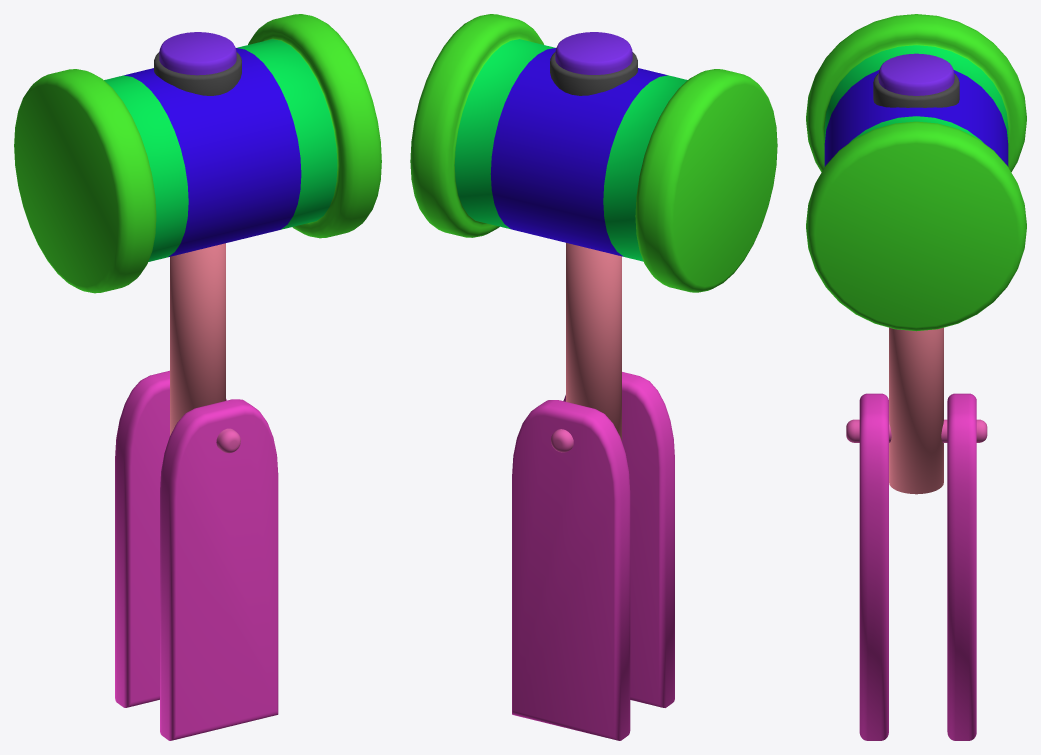
Rendered from M_Trapv1.fbx.
The picture shows the model from 3 angles, left to right: view 1: azimuth 30°, elevation 25°; view 2: azimuth 150°, elevation 25°; view 3: azimuth 270°, elevation 25°; orthographic projection. The views are drawn at different scales.
Parts seen in each view (by area): view 1: Cylinder.001, Plane.006; view 2: Cylinder.001, Plane.006; view 3: Cylinder.001, Plane.006.
Boxes of the visible parts, bbox=[...] form: Cylinder.001: bbox=[14, 14, 381, 453]; Plane.006: bbox=[115, 370, 278, 740]; Cylinder.001: bbox=[410, 14, 777, 452]; Plane.006: bbox=[512, 372, 674, 740]; Cylinder.001: bbox=[806, 14, 1026, 494]; Plane.006: bbox=[859, 393, 976, 740].
Bounding box in the file's own units: 130 × 312 × 96.27.
